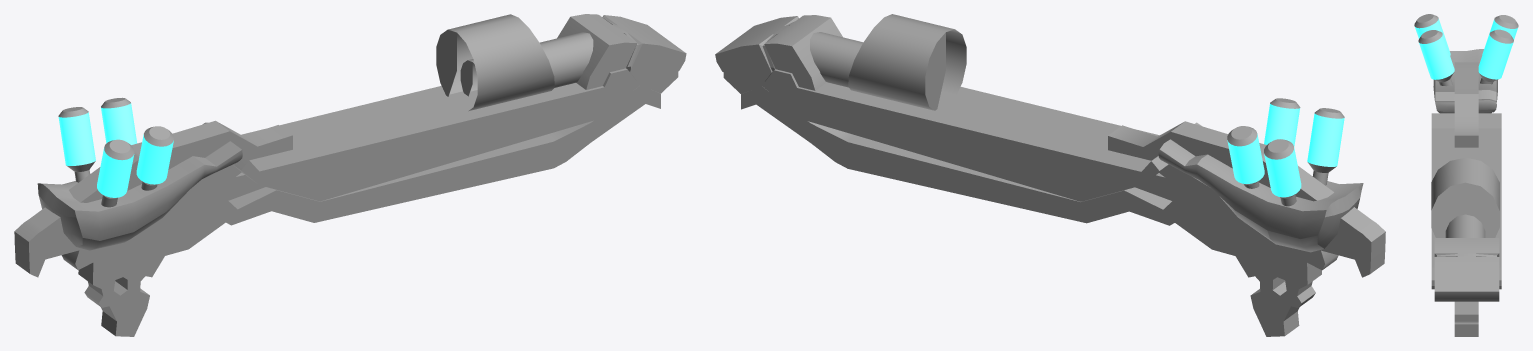
The model's file is White Blood Cell Gun_V1_02.fbx.
The picture shows the model from 3 angles, left to right: view 1: azimuth 30°, elevation 25°; view 2: azimuth 150°, elevation 25°; view 3: azimuth 270°, elevation 25°; orthographic projection. The views are drawn at different scales.
Visible parts, largest first — view 1: Body, polySurface6, polySurface2, polySurface7, pCylinder2, pCylinder4, pCylinder3, pCylinder1; view 2: Body, polySurface6, polySurface2, pCylinder4, polySurface7, pCylinder2, pCylinder1, pCylinder3; view 3: Body, polySurface6, polySurface2, pCylinder3, pCylinder1, polySurface7, pCylinder4, pCylinder2.
Boxes of the visible parts, box(x1,y1,x2,y2) form: Body: box(14, 14, 686, 336); polySurface6: box(436, 14, 554, 111); polySurface2: box(37, 122, 242, 250); polySurface7: box(460, 32, 593, 96); pCylinder2: box(58, 107, 95, 182); pCylinder4: box(97, 139, 134, 207); pCylinder3: box(136, 126, 173, 190); pCylinder1: box(101, 97, 137, 144); Body: box(715, 15, 1385, 336); polySurface6: box(848, 14, 966, 110); polySurface2: box(1158, 122, 1363, 252); pCylinder4: box(1307, 108, 1344, 185); polySurface7: box(810, 32, 863, 87); pCylinder2: box(1264, 139, 1301, 206); pCylinder1: box(1227, 126, 1264, 188); pCylinder3: box(1264, 98, 1300, 146); Body: box(1431, 62, 1501, 336); polySurface6: box(1431, 157, 1499, 237); polySurface2: box(1433, 49, 1497, 113); pCylinder3: box(1418, 30, 1454, 86); pCylinder1: box(1478, 29, 1513, 84); polySurface7: box(1445, 214, 1485, 237); pCylinder4: box(1414, 14, 1450, 55); pCylinder2: box(1482, 15, 1518, 54).
Bounding box in the file's own units: 14.1 × 4.55 × 2.37.
